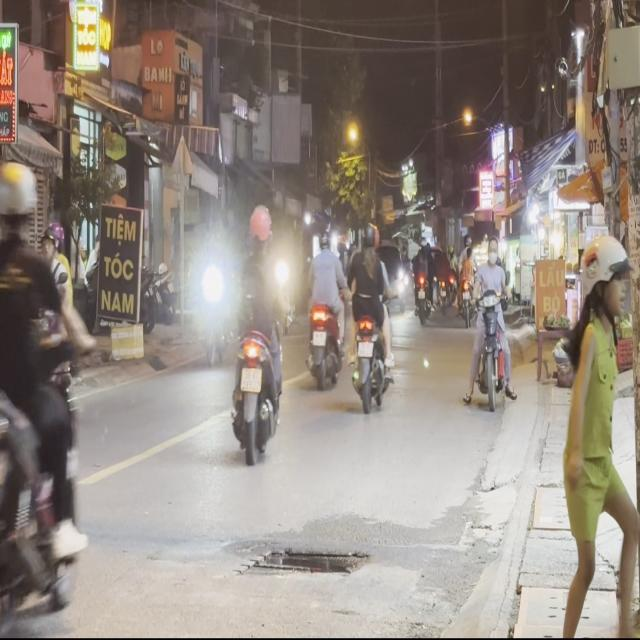helmet: (0, 160, 38, 240), (248, 204, 272, 248), (362, 222, 378, 252)
licenseplate: (0, 155, 92, 633), (227, 202, 286, 460), (460, 229, 519, 420), (347, 220, 394, 410)
motorcyclist: (484, 235, 500, 268)
nohelmet: (240, 367, 261, 390), (357, 341, 372, 356)
